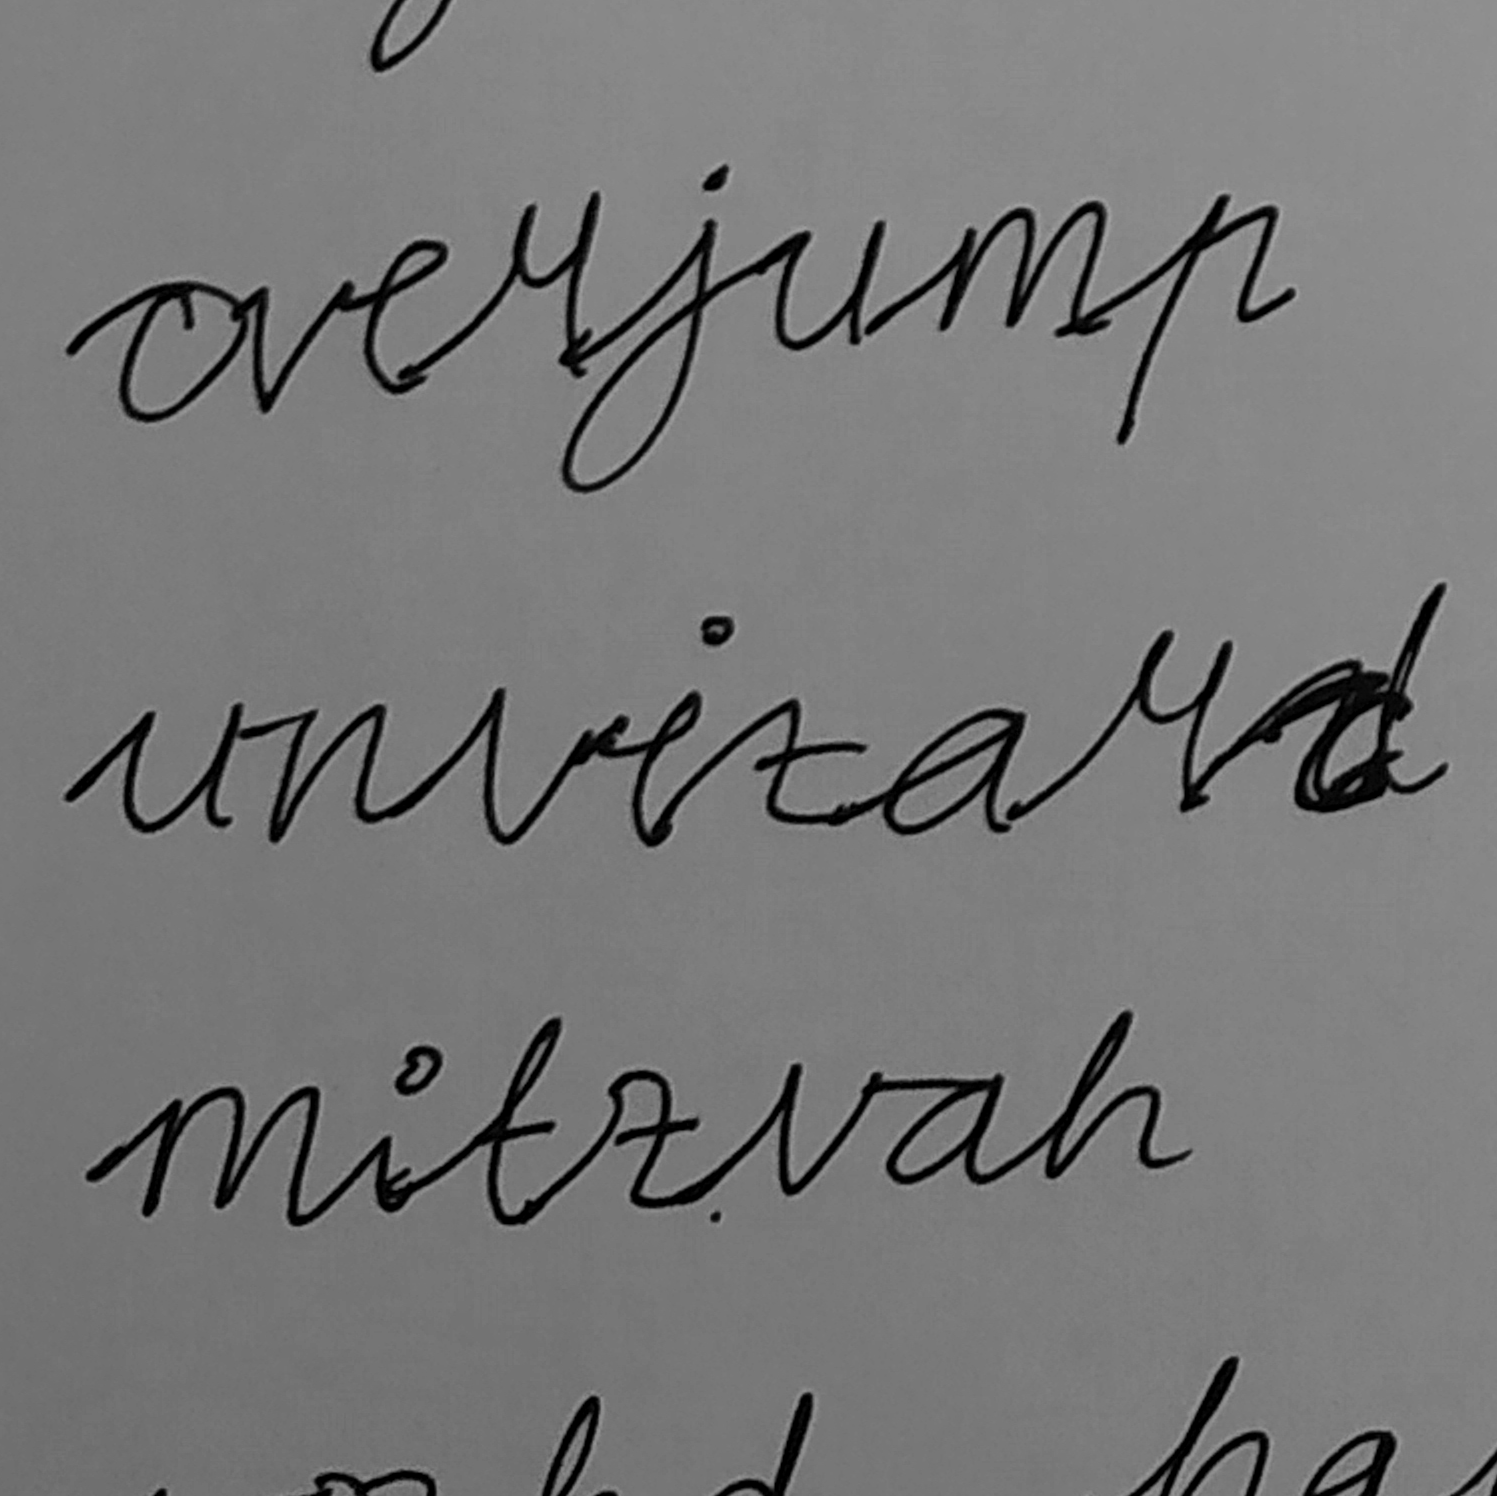a: (877, 701, 1034, 843)
d: (1286, 575, 1456, 815)
i: (625, 610, 738, 853)
n: (263, 697, 390, 849)
r: (1092, 625, 1241, 823)
u: (114, 697, 251, 838)
v: (475, 684, 607, 847)
z: (742, 695, 872, 830)
